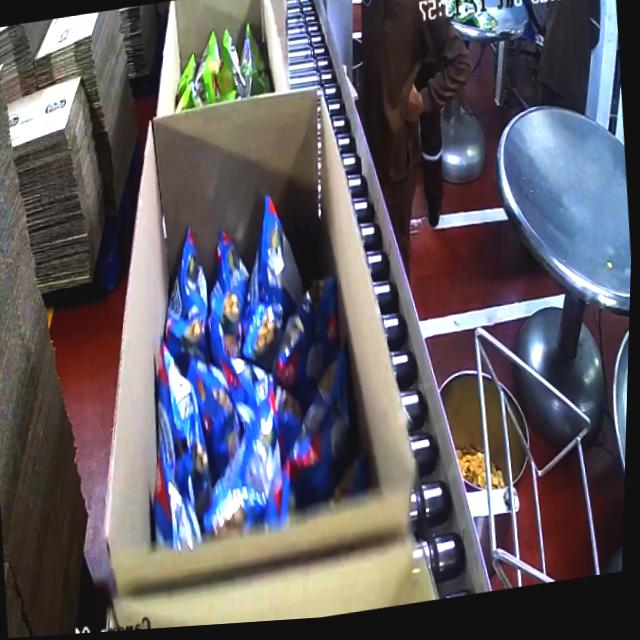PAPRIKA: (114, 185, 370, 558)
